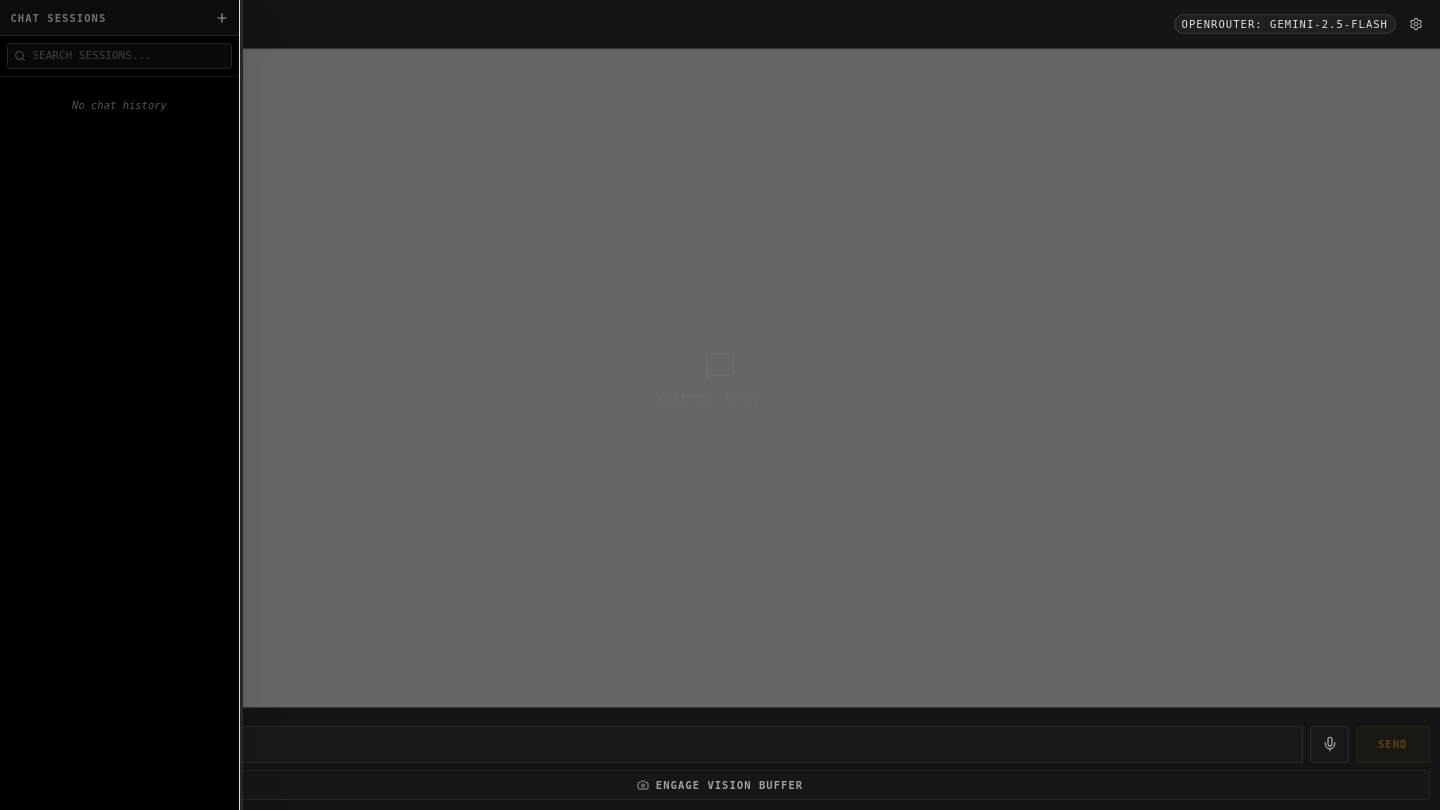
it: OpenRouterWidget Enhancements Tests › should render search sessions bar and filter list
Type a query that matches only one session
In the field with placeholder "Search Sessions...": (120, 56) [7, 43, 232, 68], type "combat"
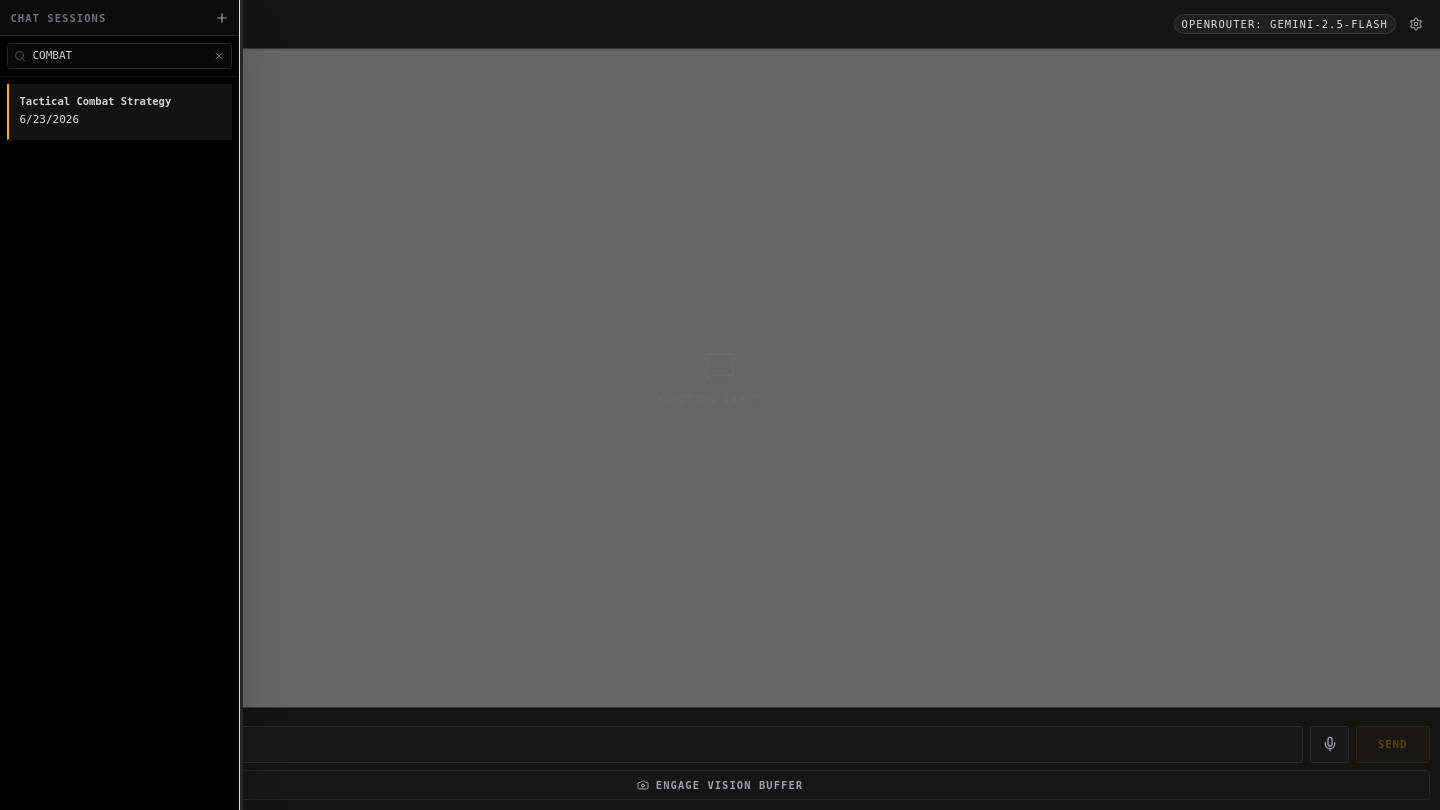
Check: the text "Tactical Combat Strategy" is shown, box [20, 94, 171, 108]
